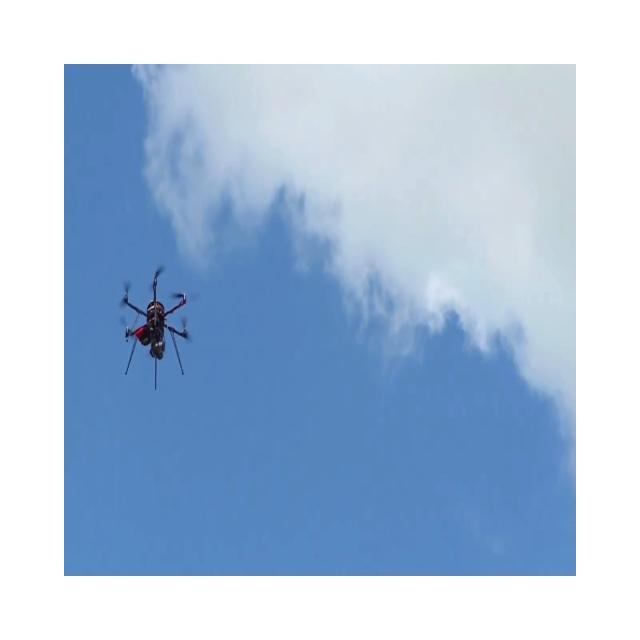drone: (120, 266, 188, 390)
